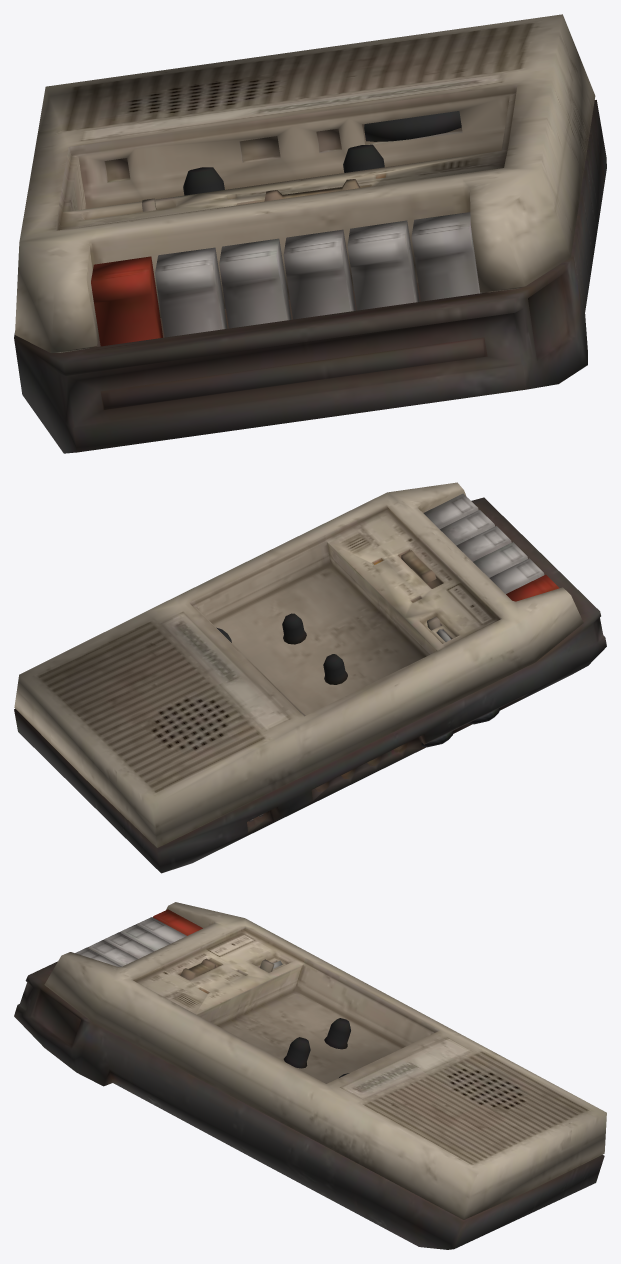
The model's file is cassetterecorder.weapon.glb.
3 views of the same model, one above another, from view 1: azimuth 30°, elevation 25°; view 2: azimuth 150°, elevation 25°; view 3: azimuth 270°, elevation 25° (orthographic). The views are drawn at different scales.
Visible parts, largest first — view 1: TapePlayer_LOD0; view 2: TapePlayer_LOD0; view 3: TapePlayer_LOD0.
Part boxes in pixels (x1=…): TapePlayer_LOD0: x1=14, y1=14, x2=606, y2=453; TapePlayer_LOD0: x1=14, y1=482, x2=606, y2=873; TapePlayer_LOD0: x1=14, y1=902, x2=606, y2=1249.
Size of the model in its own units: 0.2491 by 0.1197 by 0.2932.
Materials: 1 (1 with a texture image).
